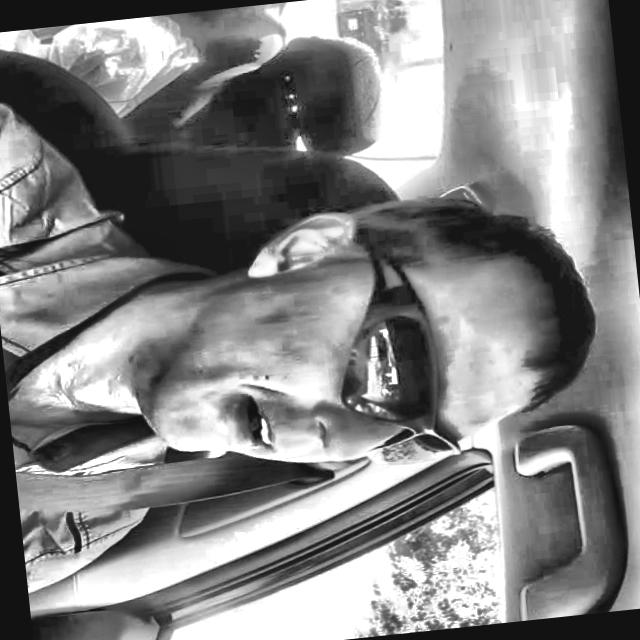open_mouth: (205, 371, 298, 469)
